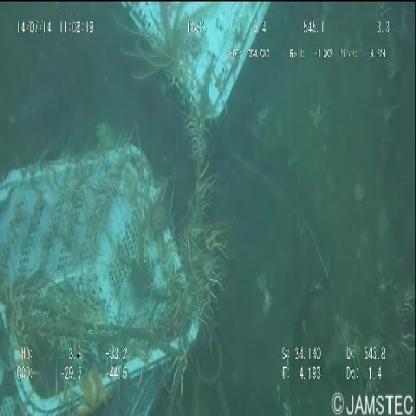Rác: (1, 1, 282, 414)
